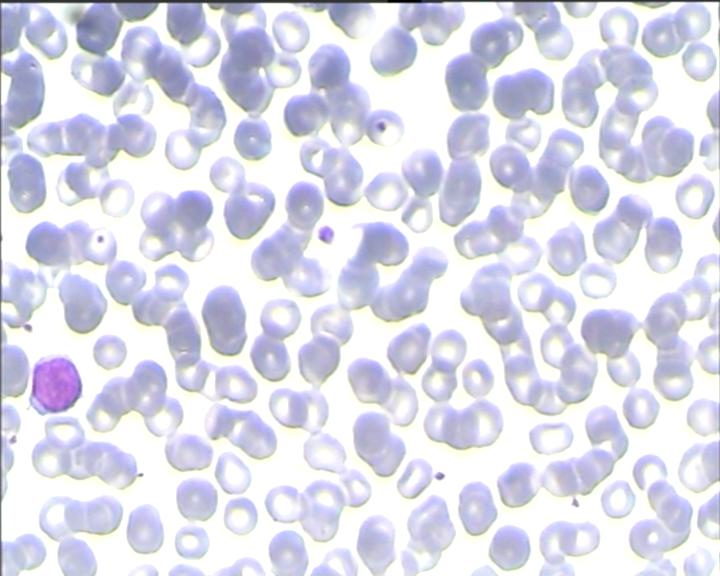lymp: (25, 350, 87, 418)
